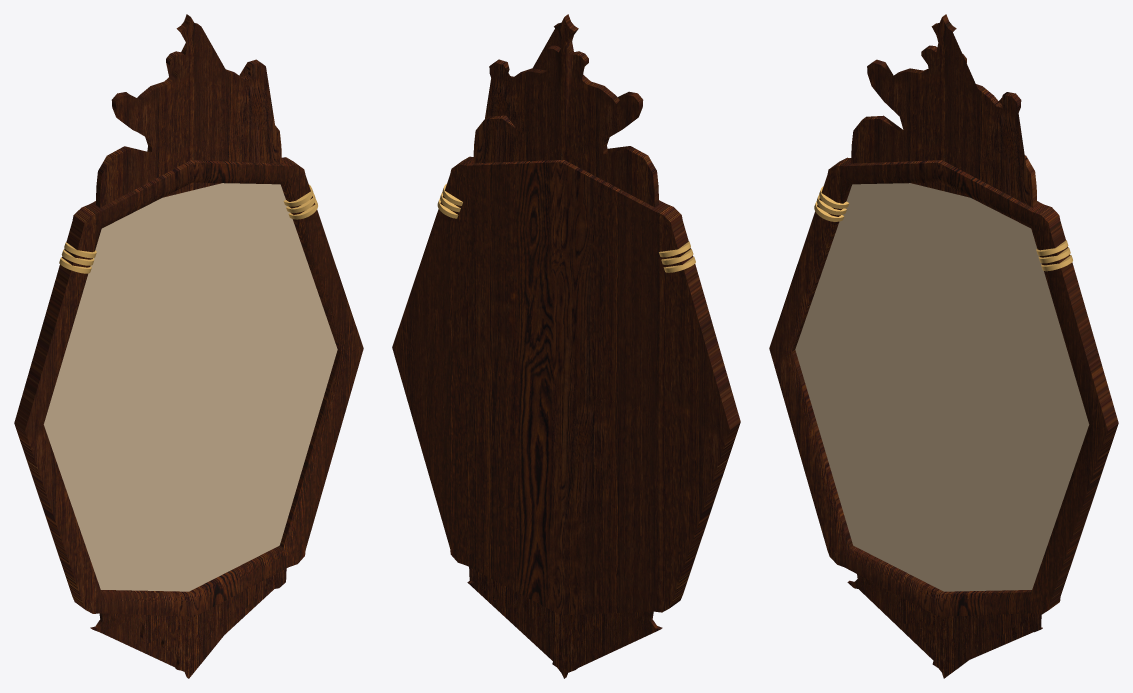
The model's file is G_Mirror.fbx.
3 renders of one model, left to right at view 1: azimuth 30°, elevation 25°; view 2: azimuth 150°, elevation 25°; view 3: azimuth 330°, elevation 25°, orthographic.
Visible parts, largest first — view 1: SpiegelCore, verzierungoben, verzierung unten, rings; view 2: SpiegelCore, verzierungoben, verzierung unten, rings; view 3: SpiegelCore, verzierungoben, verzierung unten, rings.
Part boxes in pixels (x1,y1,x2,y2): SpiegelCore: (14,157,363,616); verzierungoben: (96,14,281,207); verzierung unten: (90,568,286,678); rings: (59,184,317,273); SpiegelCore: (392,156,740,615); verzierungoben: (473,14,658,207); verzierung unten: (467,567,662,678); rings: (437,184,695,272); SpiegelCore: (769,157,1118,616); verzierungoben: (851,14,1036,207); verzierung unten: (847,574,1042,678); rings: (814,186,1072,271).
Size of the model in its own units: 1.77 by 3.31 by 0.1477.
